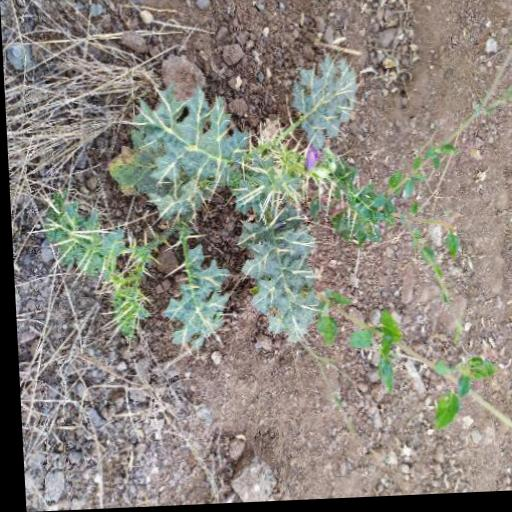weed: (43, 50, 397, 368)
